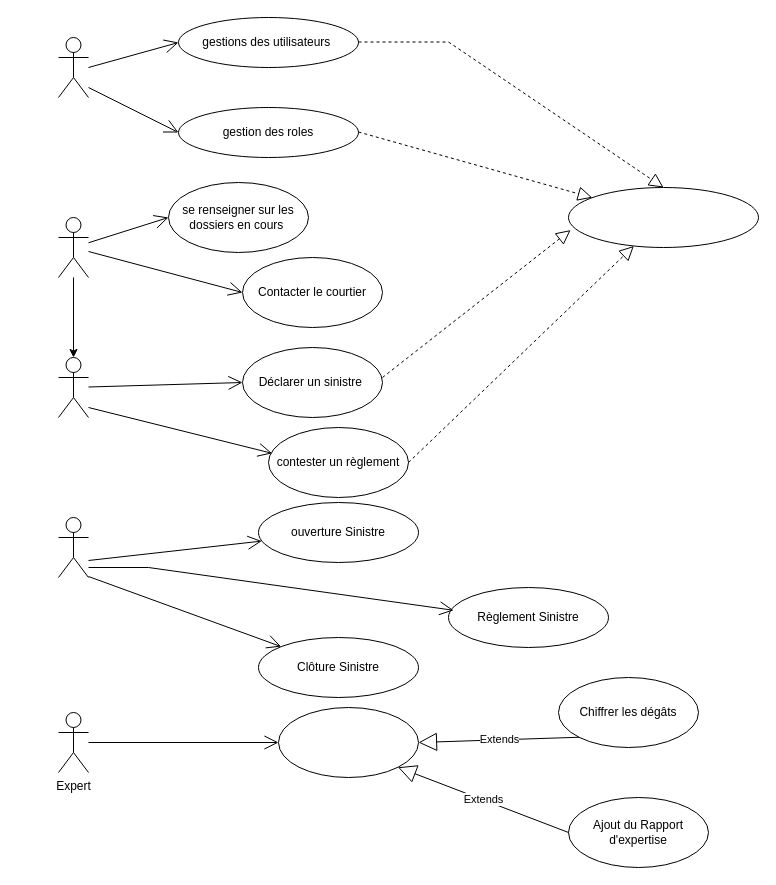
This 776x885 diagram has some shape labels left out. The shapes that lost their labels are listed below. From the top down, each one's box as (x1, y1, x2, y2) in pixels, then its label:
(58, 36, 88, 98): Admin
(568, 186, 758, 248): Authentification
(58, 216, 88, 278): Client Potentiel
(58, 356, 88, 418): Client
(58, 516, 88, 578): Agent de l'assurance
(278, 706, 418, 778): Evaluer le sinistre
